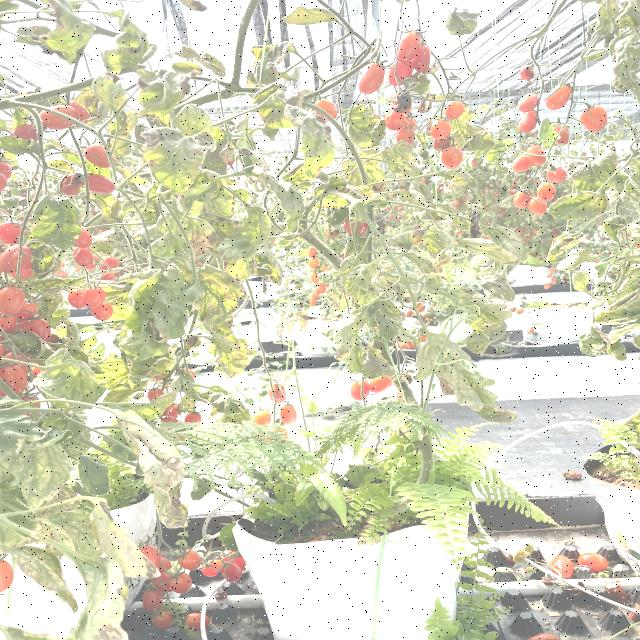Soilbag: (228, 495, 474, 636), (1, 480, 149, 640)
plant: (268, 185, 447, 480), (0, 191, 172, 464)
